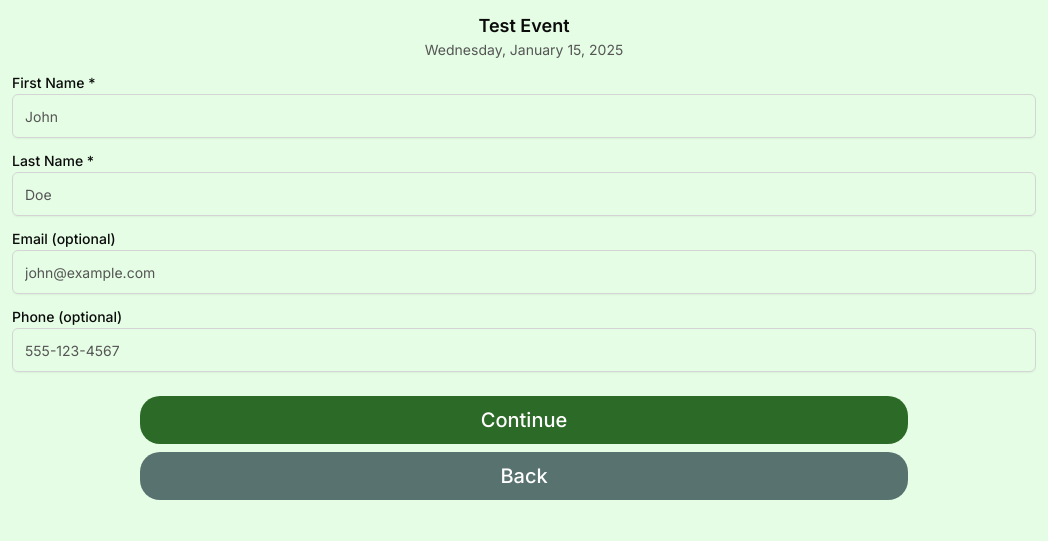
GuestInfoForm › requires first name and last name
# Try to submit without entering names - trigger validation by typing and clearing
Type "a" into the field labelled "First Name *". click: (524,116)
box: [12,94,1036,138]
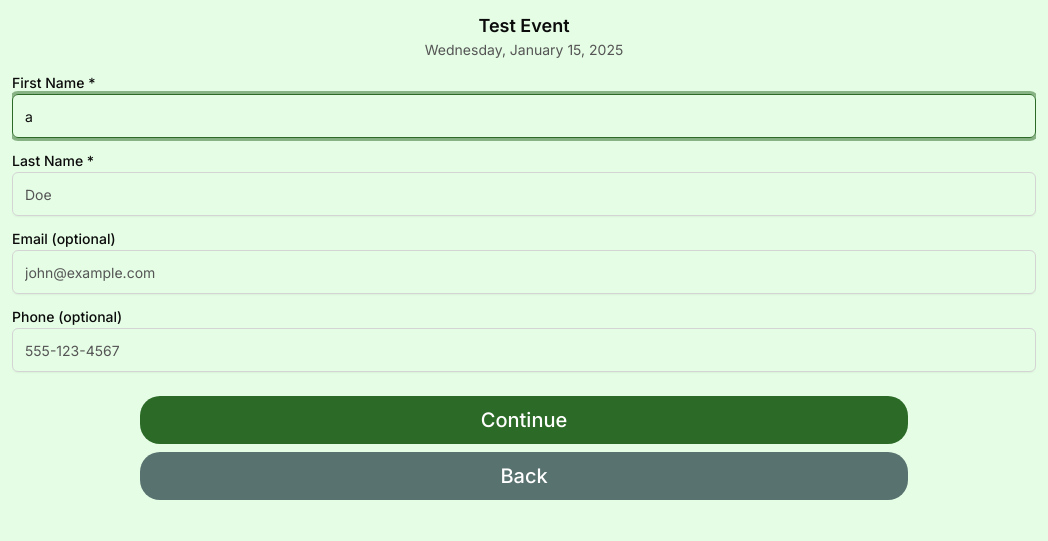
Clear the field labelled "First Name *". click: (524,116)
box: [12,94,1036,138]
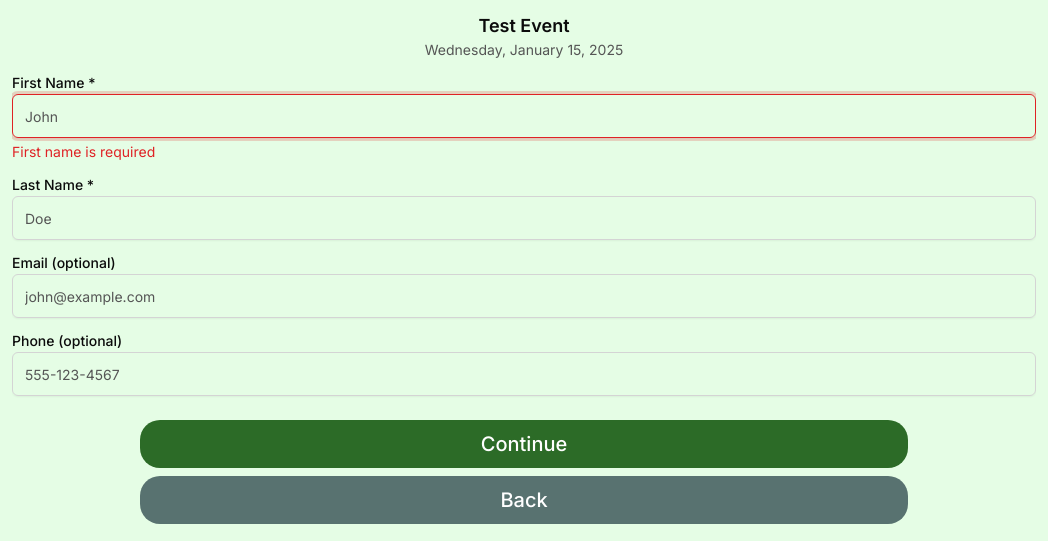
Check: the text "First name is required" is shown, box [12,143,155,160]
